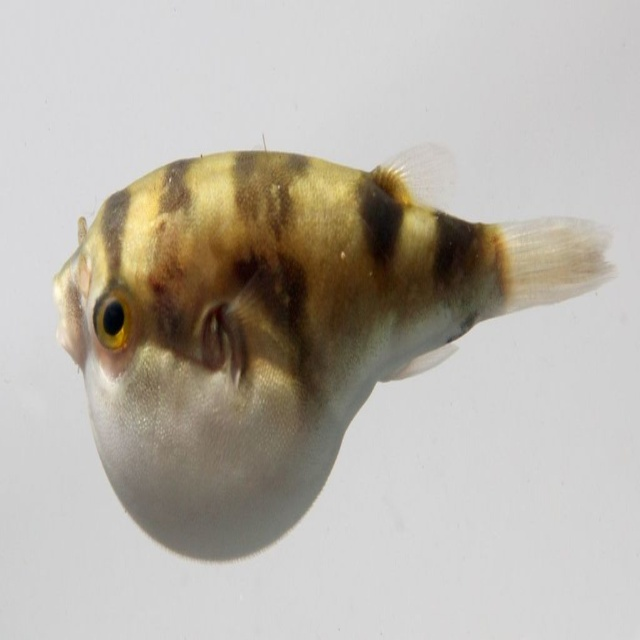Fish: (48, 127, 619, 563)
